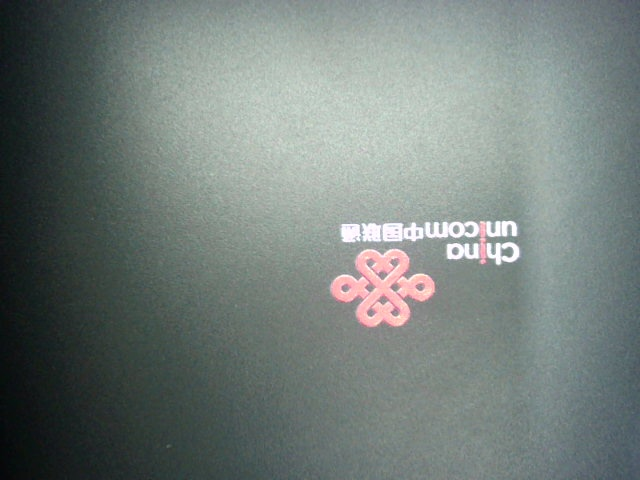AC_ChinaUnicom: (317, 205, 532, 336)
